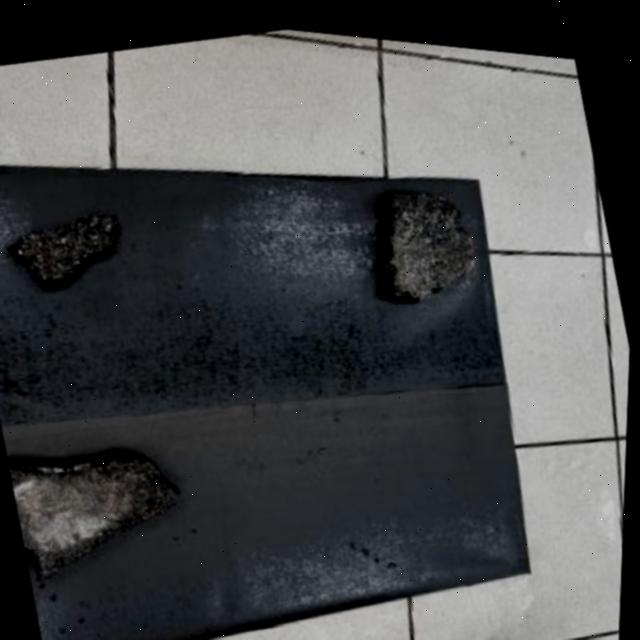Road Debris: (268, 336, 387, 428), (0, 114, 84, 228), (0, 381, 64, 484)
